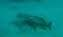smallfish: (23, 13, 55, 31)
